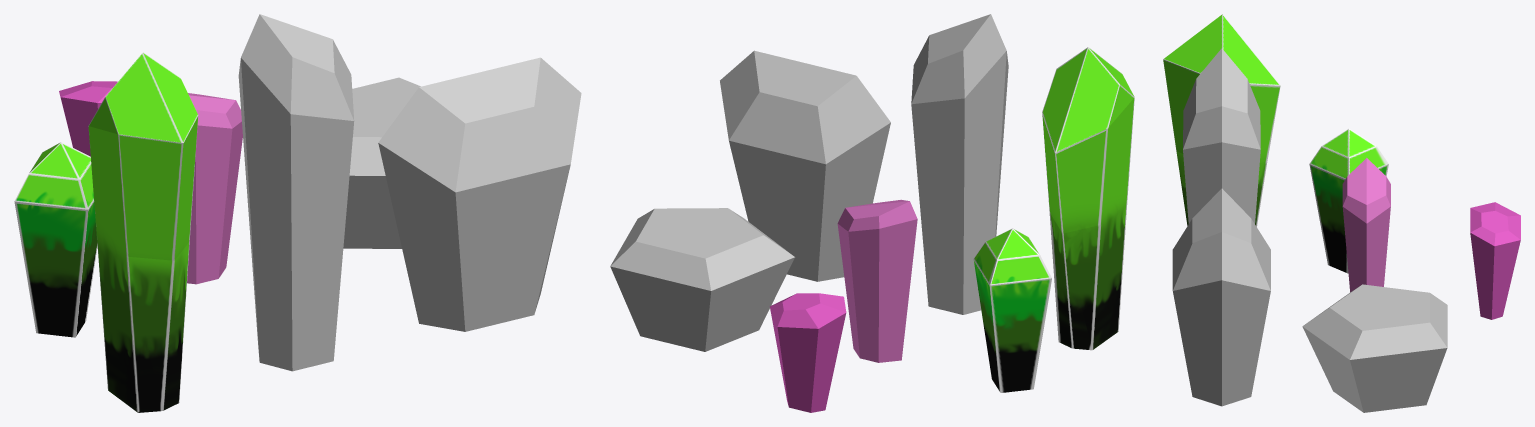
File: Crystals.fbx
3 renders of one model, left to right at view 1: azimuth 30°, elevation 25°; view 2: azimuth 150°, elevation 25°; view 3: azimuth 270°, elevation 25°, orthographic. The views are drawn at different scales.
Visible parts, largest first — view 1: Crystal_Blue_001, Crystal_Pink_001, Crystal_Dark_001, Crystal_Dark_002, Crystal_Pink_002, Crystal_Blue_002, Crystal_Pink_003; view 2: Crystal_Blue_001, Crystal_Pink_001, Crystal_Dark_001, Crystal_Blue_002, Crystal_Pink_002, Crystal_Dark_002, Crystal_Pink_003; view 3: Crystal_Blue_001, Crystal_Blue_002, Crystal_Pink_001, Crystal_Dark_001, Crystal_Pink_002, Crystal_Dark_002, Crystal_Pink_003.
Part boxes in pixels (x1,y1,x2,y2): Crystal_Blue_001: (378,57,581,331); Crystal_Pink_001: (238,14,354,371); Crystal_Dark_001: (88,52,198,412); Crystal_Dark_002: (14,142,97,337); Crystal_Pink_002: (187,93,242,284); Crystal_Blue_002: (343,77,420,248); Crystal_Pink_003: (59,81,117,156); Crystal_Blue_001: (720,50,890,281); Crystal_Pink_001: (911,14,1008,314); Crystal_Dark_001: (1042,47,1134,350); Crystal_Blue_002: (610,208,794,351); Crystal_Pink_002: (837,199,917,362); Crystal_Dark_002: (973,228,1051,392); Crystal_Pink_003: (769,293,846,412); Crystal_Blue_001: (1172,188,1270,406); Crystal_Blue_002: (1302,284,1447,412); Crystal_Pink_001: (1183,48,1260,223); Crystal_Dark_001: (1163,14,1280,226); Crystal_Pink_002: (1342,158,1390,292); Crystal_Dark_002: (1309,128,1388,273); Crystal_Pink_003: (1470,202,1520,319).
Size of what is drawn, in the model's own units: 1425 by 982 by 1218.
